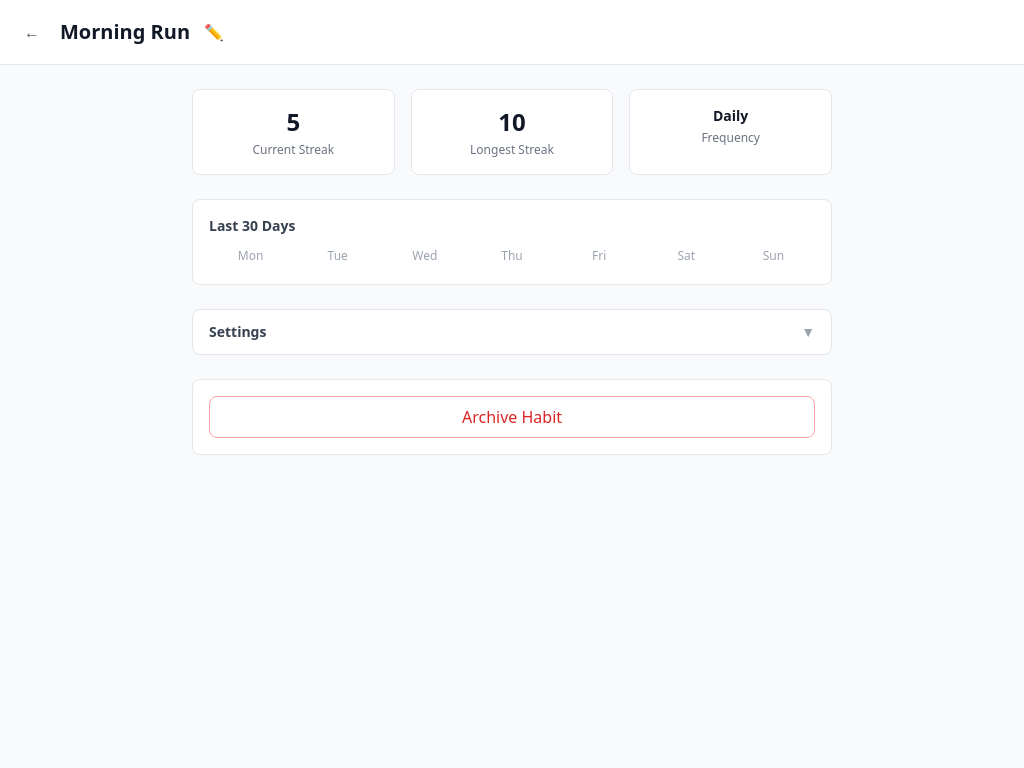
Test case: HabitDetailView › Settings section › clicking Settings button opens the section
Click the button "Settings ▼".
click(238, 332)  # box [193,310,831,354]
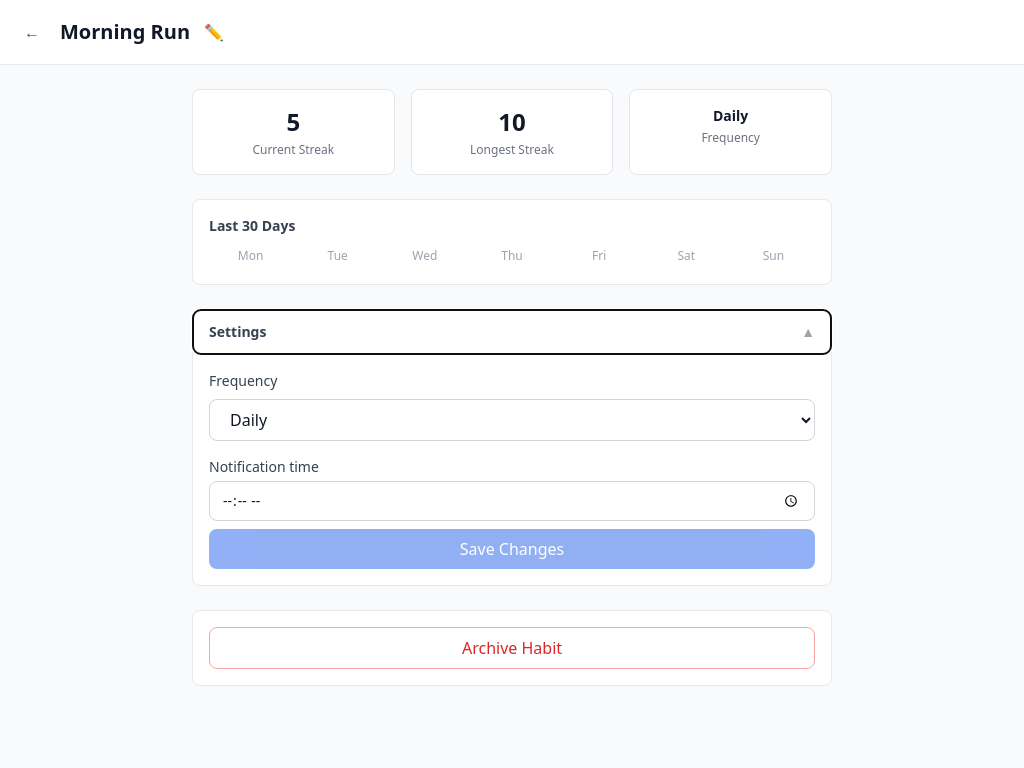
Expected: the button "Settings ▲" is expanded, [193,310,831,354]
